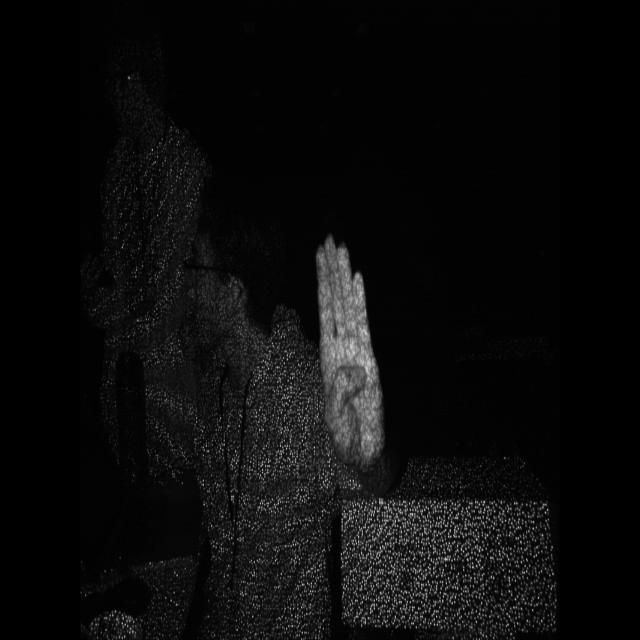B: (307, 225, 421, 475)
